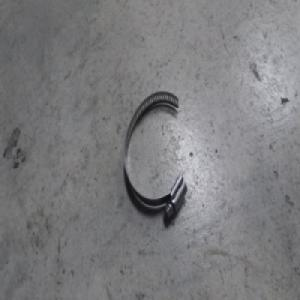AdjustableClamp: (122, 89, 188, 217)
